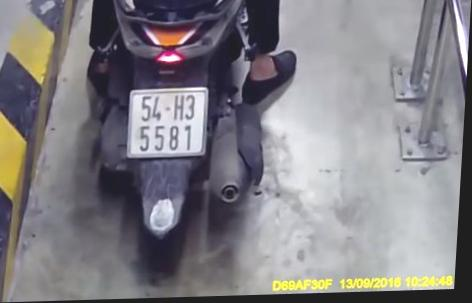License_Plate: (123, 83, 219, 161)
